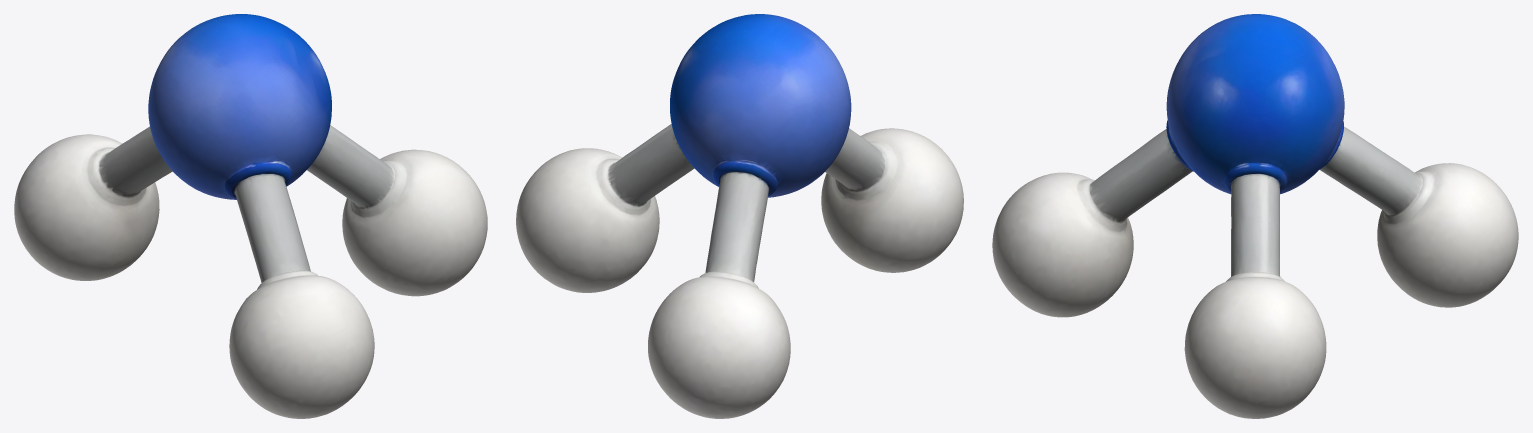
File: ammonia-molecule.glb
3 renders of one model, left to right at view 1: azimuth 30°, elevation 25°; view 2: azimuth 150°, elevation 25°; view 3: azimuth 270°, elevation 25°, orthographic.
Visible parts, largest first — view 1: ammonia-molecule; view 2: ammonia-molecule; view 3: ammonia-molecule.
Boxes of the visible parts, <box> form: ammonia-molecule: <box>14,14,487,418</box>; ammonia-molecule: <box>516,14,963,418</box>; ammonia-molecule: <box>992,14,1518,418</box>.
Bounding box in the file's own units: 0.0927 × 0.077 × 0.12.
Materials: 1 (1 with a texture image).
